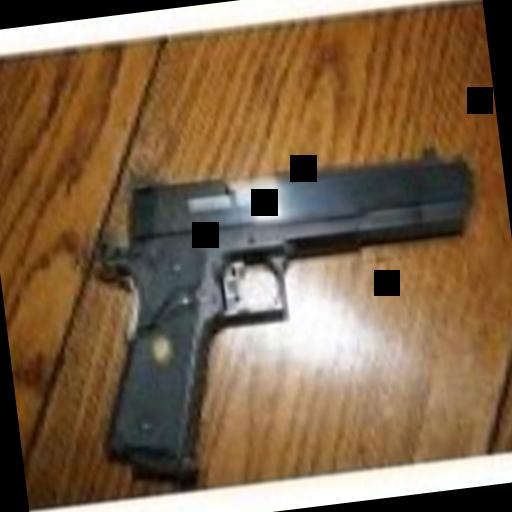Handgun: (64, 134, 506, 492)
